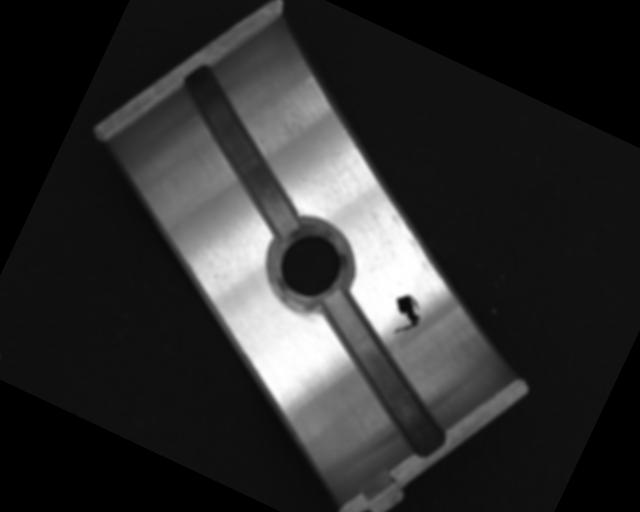blot: (381, 290, 428, 342)
gap: (142, 63, 343, 242), (283, 287, 480, 462)
hole: (263, 218, 360, 318)
